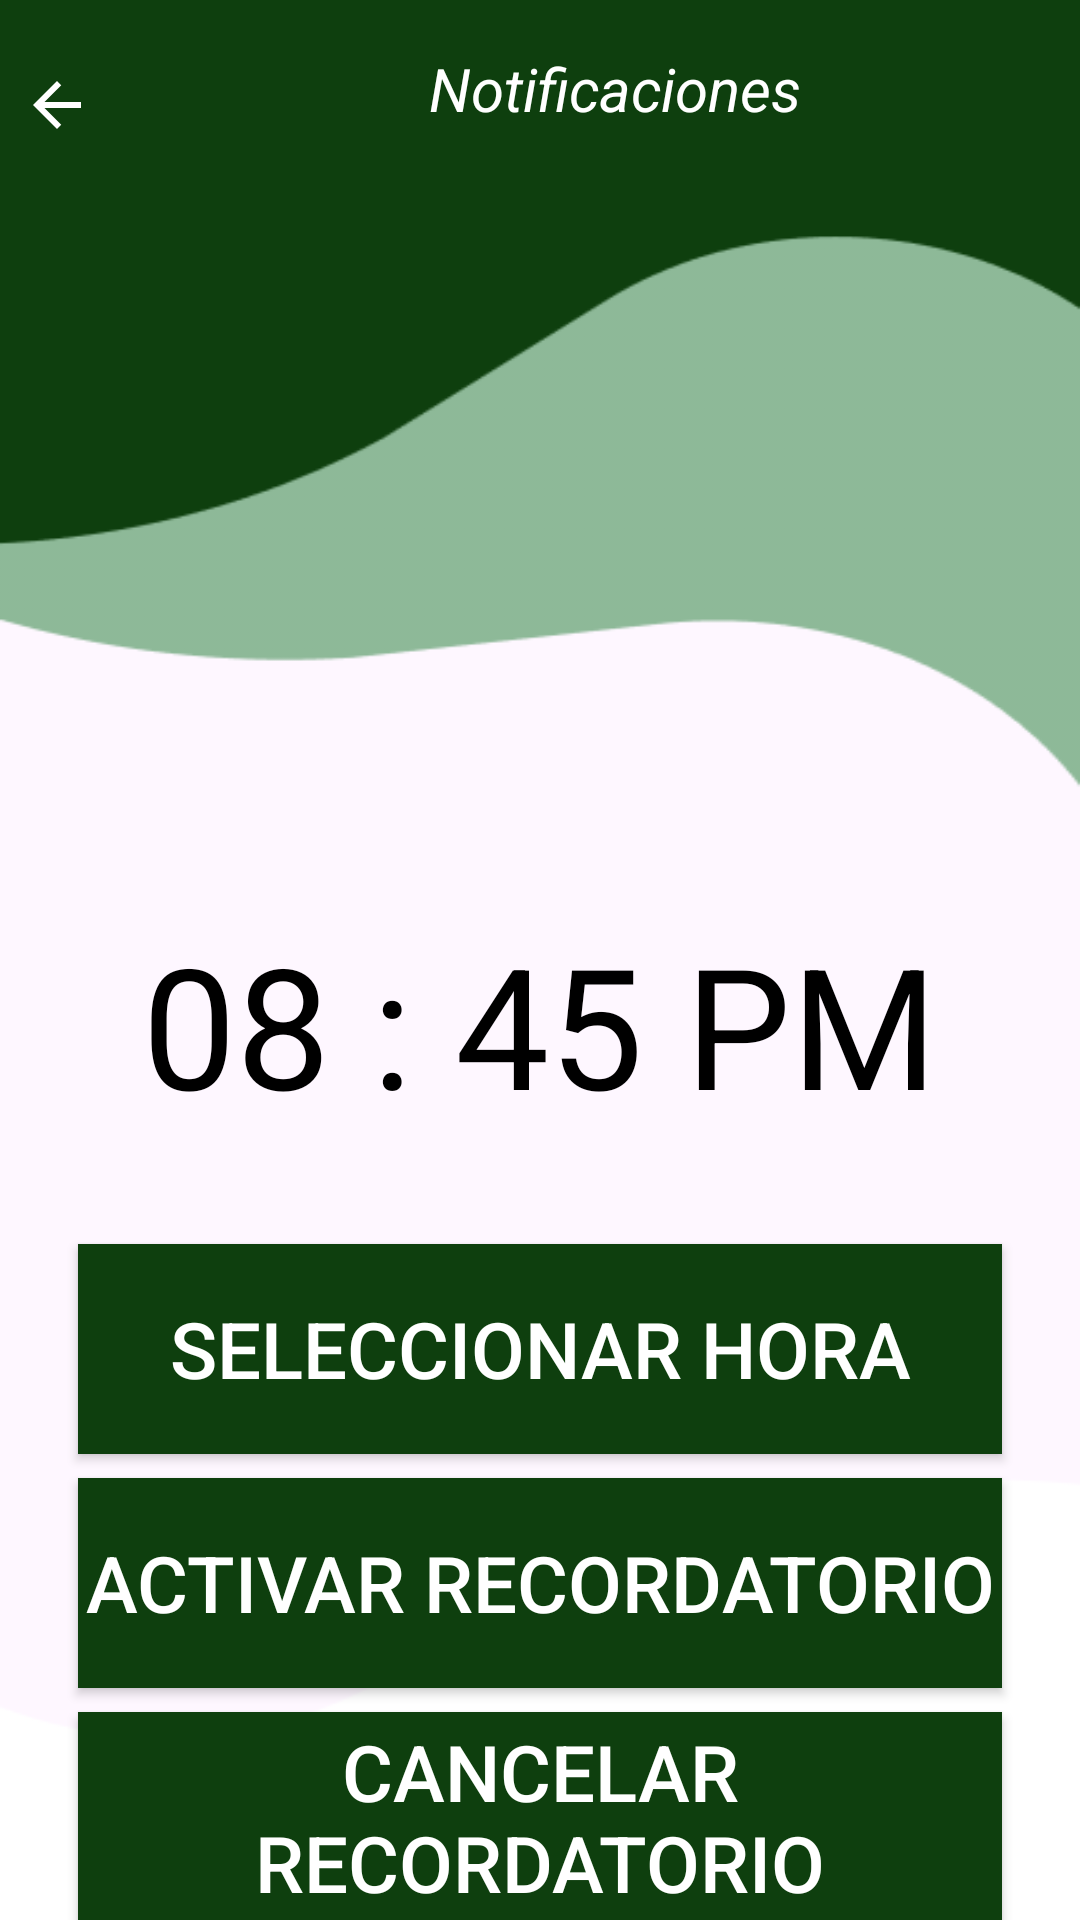

Named icons in this screenshot (1080*1920) and their bounding boxes, (x1, y1, x2, y2):
arrow back: (33, 81, 81, 129)
